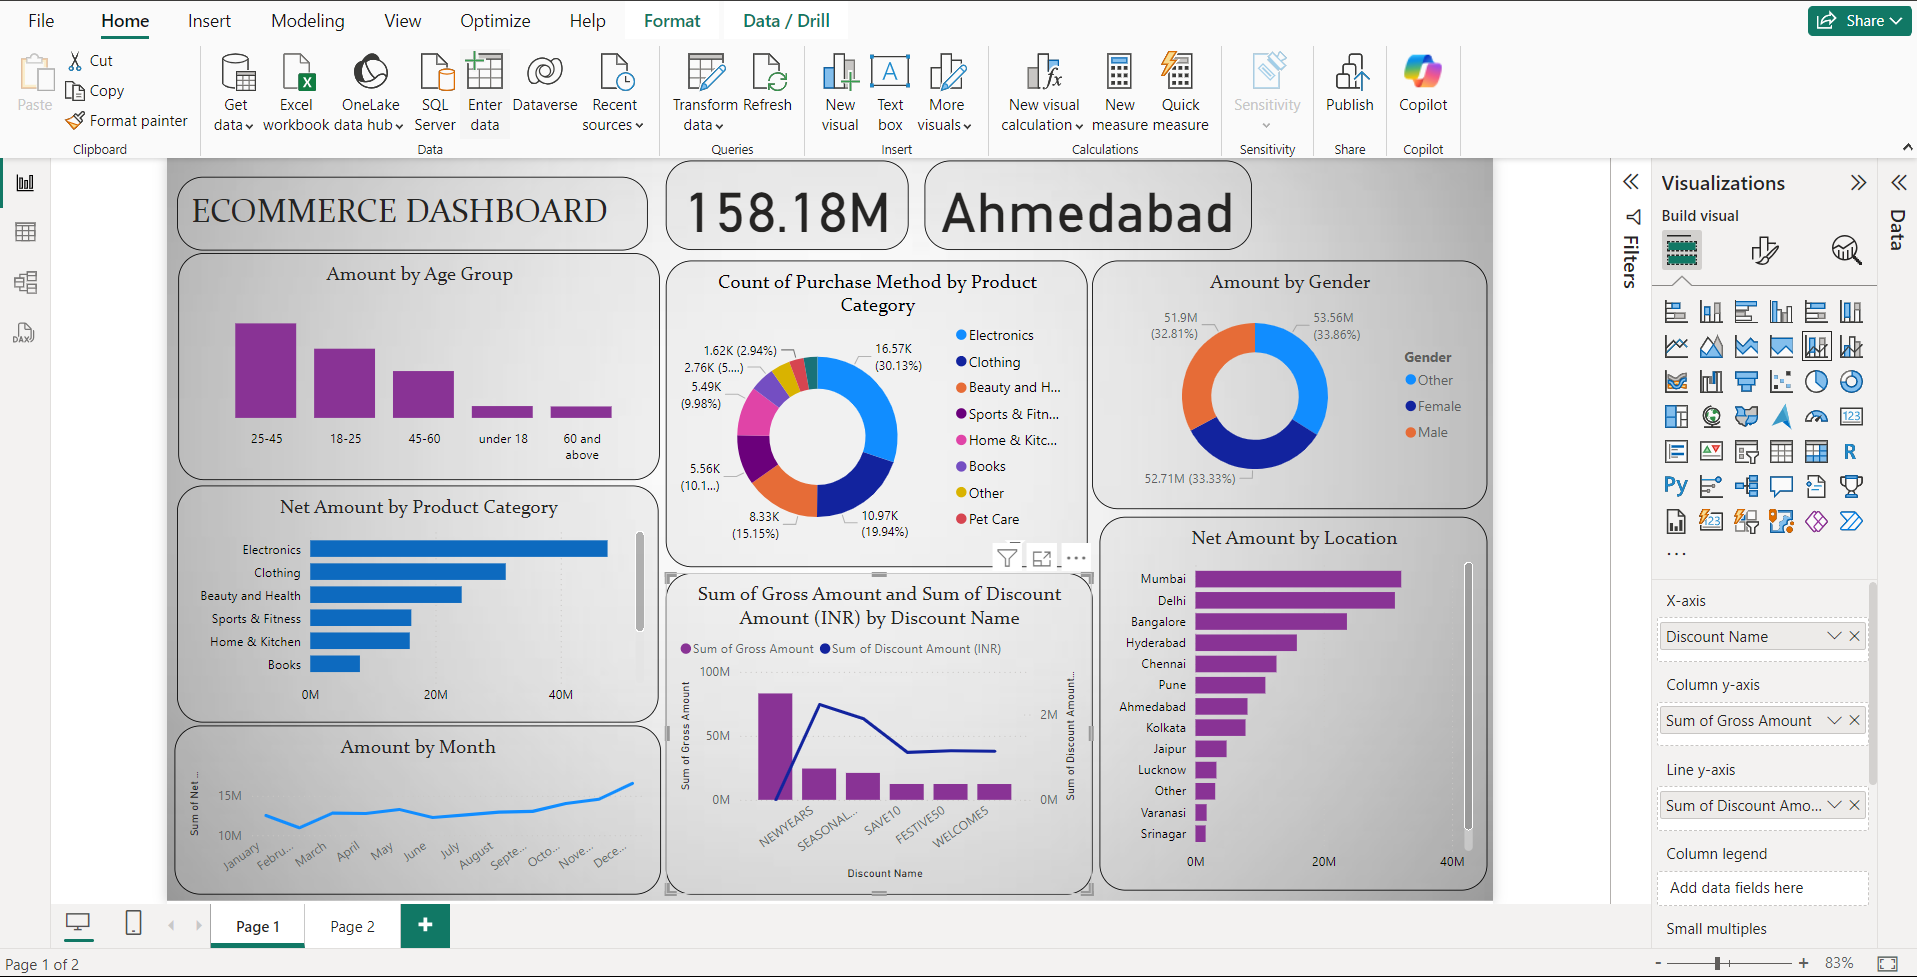

Layout of this report page (visuals, bound fields, positions):
{"tool":"powerbi","page":{"name":"Page 1","canvas":[1280,720],"ordinal":0},"visuals":[{"type":"clusteredColumnChart","title":" Amount by Age Group","fields":{"Category":["ecom.Age Group"],"Y":["Sum(ecom.Net Amount)"]},"box":[11,91.9,465.2,219.6],"z":0},{"type":"donutChart","title":" Amount by Gender","fields":{"Category":["ecom.Gender"],"Y":["Sum(ecom.Net Amount)"]},"box":[893.3,98.8,381.5,240.1],"z":1},{"type":"lineChart","title":"Amount by Month","fields":{"Y":["Sum(ecom.Net Amount)"],"Category":["ecom.Purchase Date.Variation.Date Hierarchy.Month"]},"box":[6.9,547.5,469.3,163.3],"z":2},{"type":"donutChart","fields":{"Category":["ecom.Product Category"],"Y":["CountNonNull(ecom.Purchase Method)"]},"box":[481.6,98.8,407.5,296.4],"z":3},{"type":"clusteredBarChart","title":"Net Amount by Product Category","fields":{"Category":["ecom.Product Category"],"Y":["Sum(ecom.Net Amount)"]},"box":[9.6,315.6,465.2,229.2],"z":4},{"type":"clusteredBarChart","title":"Net Amount by Location","fields":{"Category":["ecom.Location"],"Y":["Sum(ecom.Net Amount)"]},"box":[900.2,345.8,374.6,360.9],"z":5},{"type":"lineStackedColumnComboChart","fields":{"Category":["ecom.Discount Name"],"Y":["Sum(ecom.Gross Amount)"],"Y2":["Sum(ecom.Discount Amount (INR))"]},"box":[481.6,400.7,411.7,310.1],"z":6},{"type":"textbox","box":[9.6,17.8,454.2,71.4],"z":7},{"type":"card","fields":{"Values":["Sum(ecom.Net Amount)"]},"box":[481.6,2.7,234.6,86.4],"z":8},{"type":"card","fields":{"Values":["Min(ecom.Location)"]},"box":[731.4,2.7,315.6,86.4],"z":9}]}

Visuals, with their boxes on the page's 1280x720 design canvas (x1, y1, x2, y2). These are canvas units, not pixel positions in the 1917x977 screenshot, which may show the page scaled, cropped or inside an application window:
" Amount by Age Group" clusteredColumnChart: 11:92:476:312
" Amount by Gender" donutChart: 893:99:1275:339
"Amount by Month" lineChart: 7:548:476:711
donutChart - ecom.Product Category x CountNonNull(ecom.Purchase Method): 482:99:889:395
"Net Amount by Product Category" clusteredBarChart: 10:316:475:545
"Net Amount by Location" clusteredBarChart: 900:346:1275:707
lineStackedColumnComboChart - ecom.Discount Name x Sum(ecom.Gross Amount): 482:401:893:711
textbox: 10:18:464:89
card - Sum(ecom.Net Amount): 482:3:716:89
card - Min(ecom.Location): 731:3:1047:89
